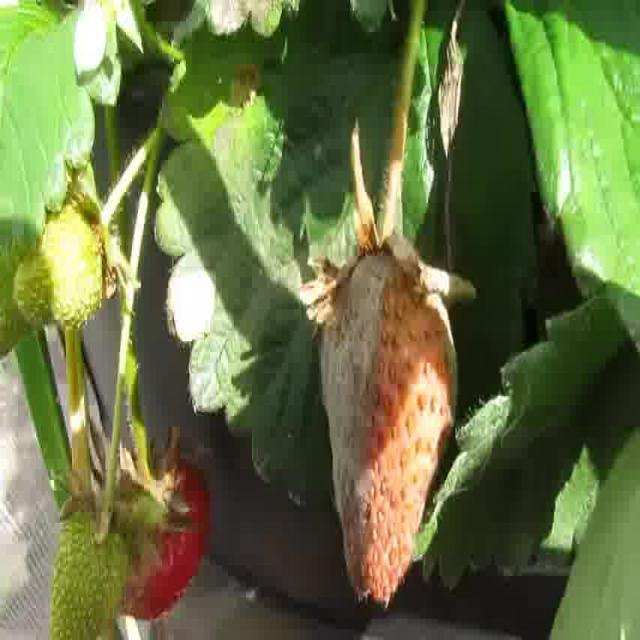Fruta sana: (119, 438, 208, 625), (10, 200, 105, 328), (50, 510, 124, 637)
Moho gris: (314, 242, 454, 614)
